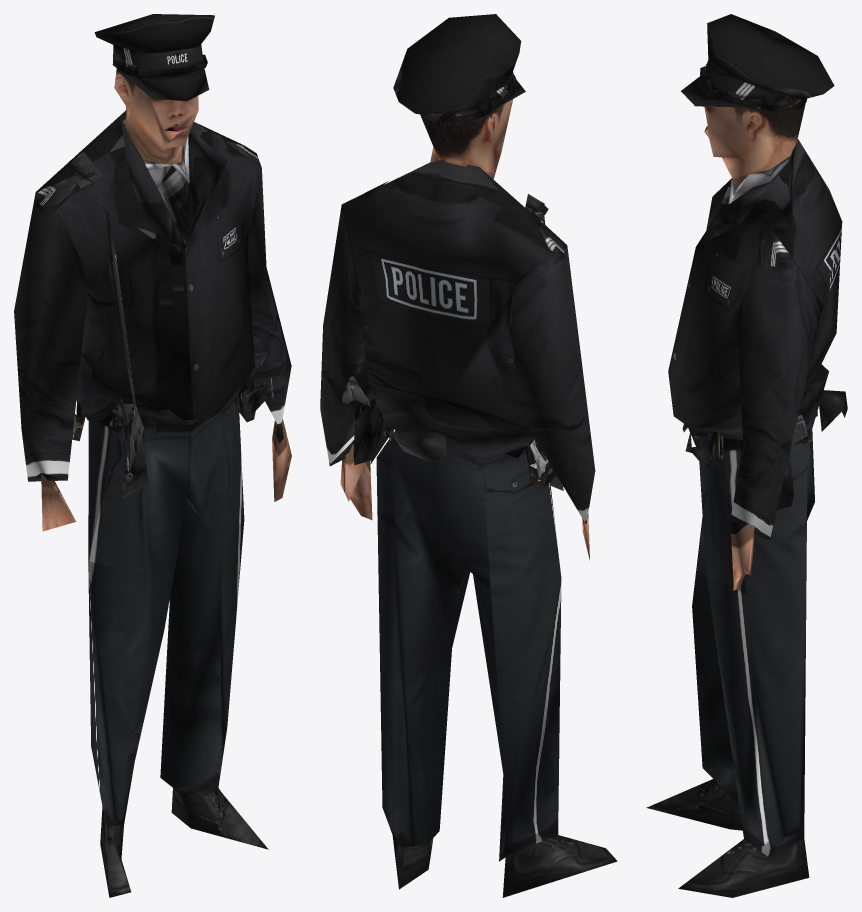
The model's file is PoliceOfficer_Standing_LOD2.obj.
The picture shows the model from 3 angles, left to right: view 1: azimuth 30°, elevation 25°; view 2: azimuth 150°, elevation 25°; view 3: azimuth 270°, elevation 25°; orthographic projection.
Parts seen in each view (by area): view 1: Body, Head, Equipment; view 2: Body, Head, Equipment, Pistol; view 3: Body, Head, Equipment.
Boxes of the visible parts, x1,y1,x2,y2 form: Body: (14, 110, 291, 897); Head: (94, 14, 214, 164); Equipment: (69, 151, 274, 499); Body: (320, 159, 617, 897); Head: (393, 14, 525, 179); Equipment: (353, 194, 563, 490); Pistol: (342, 376, 370, 432); Body: (646, 139, 842, 897); Head: (681, 14, 834, 186); Equipment: (682, 178, 847, 509).
Size of the model in its own units: 0.6233 by 1.85 by 0.4053.
4 materials, 4 textured.
